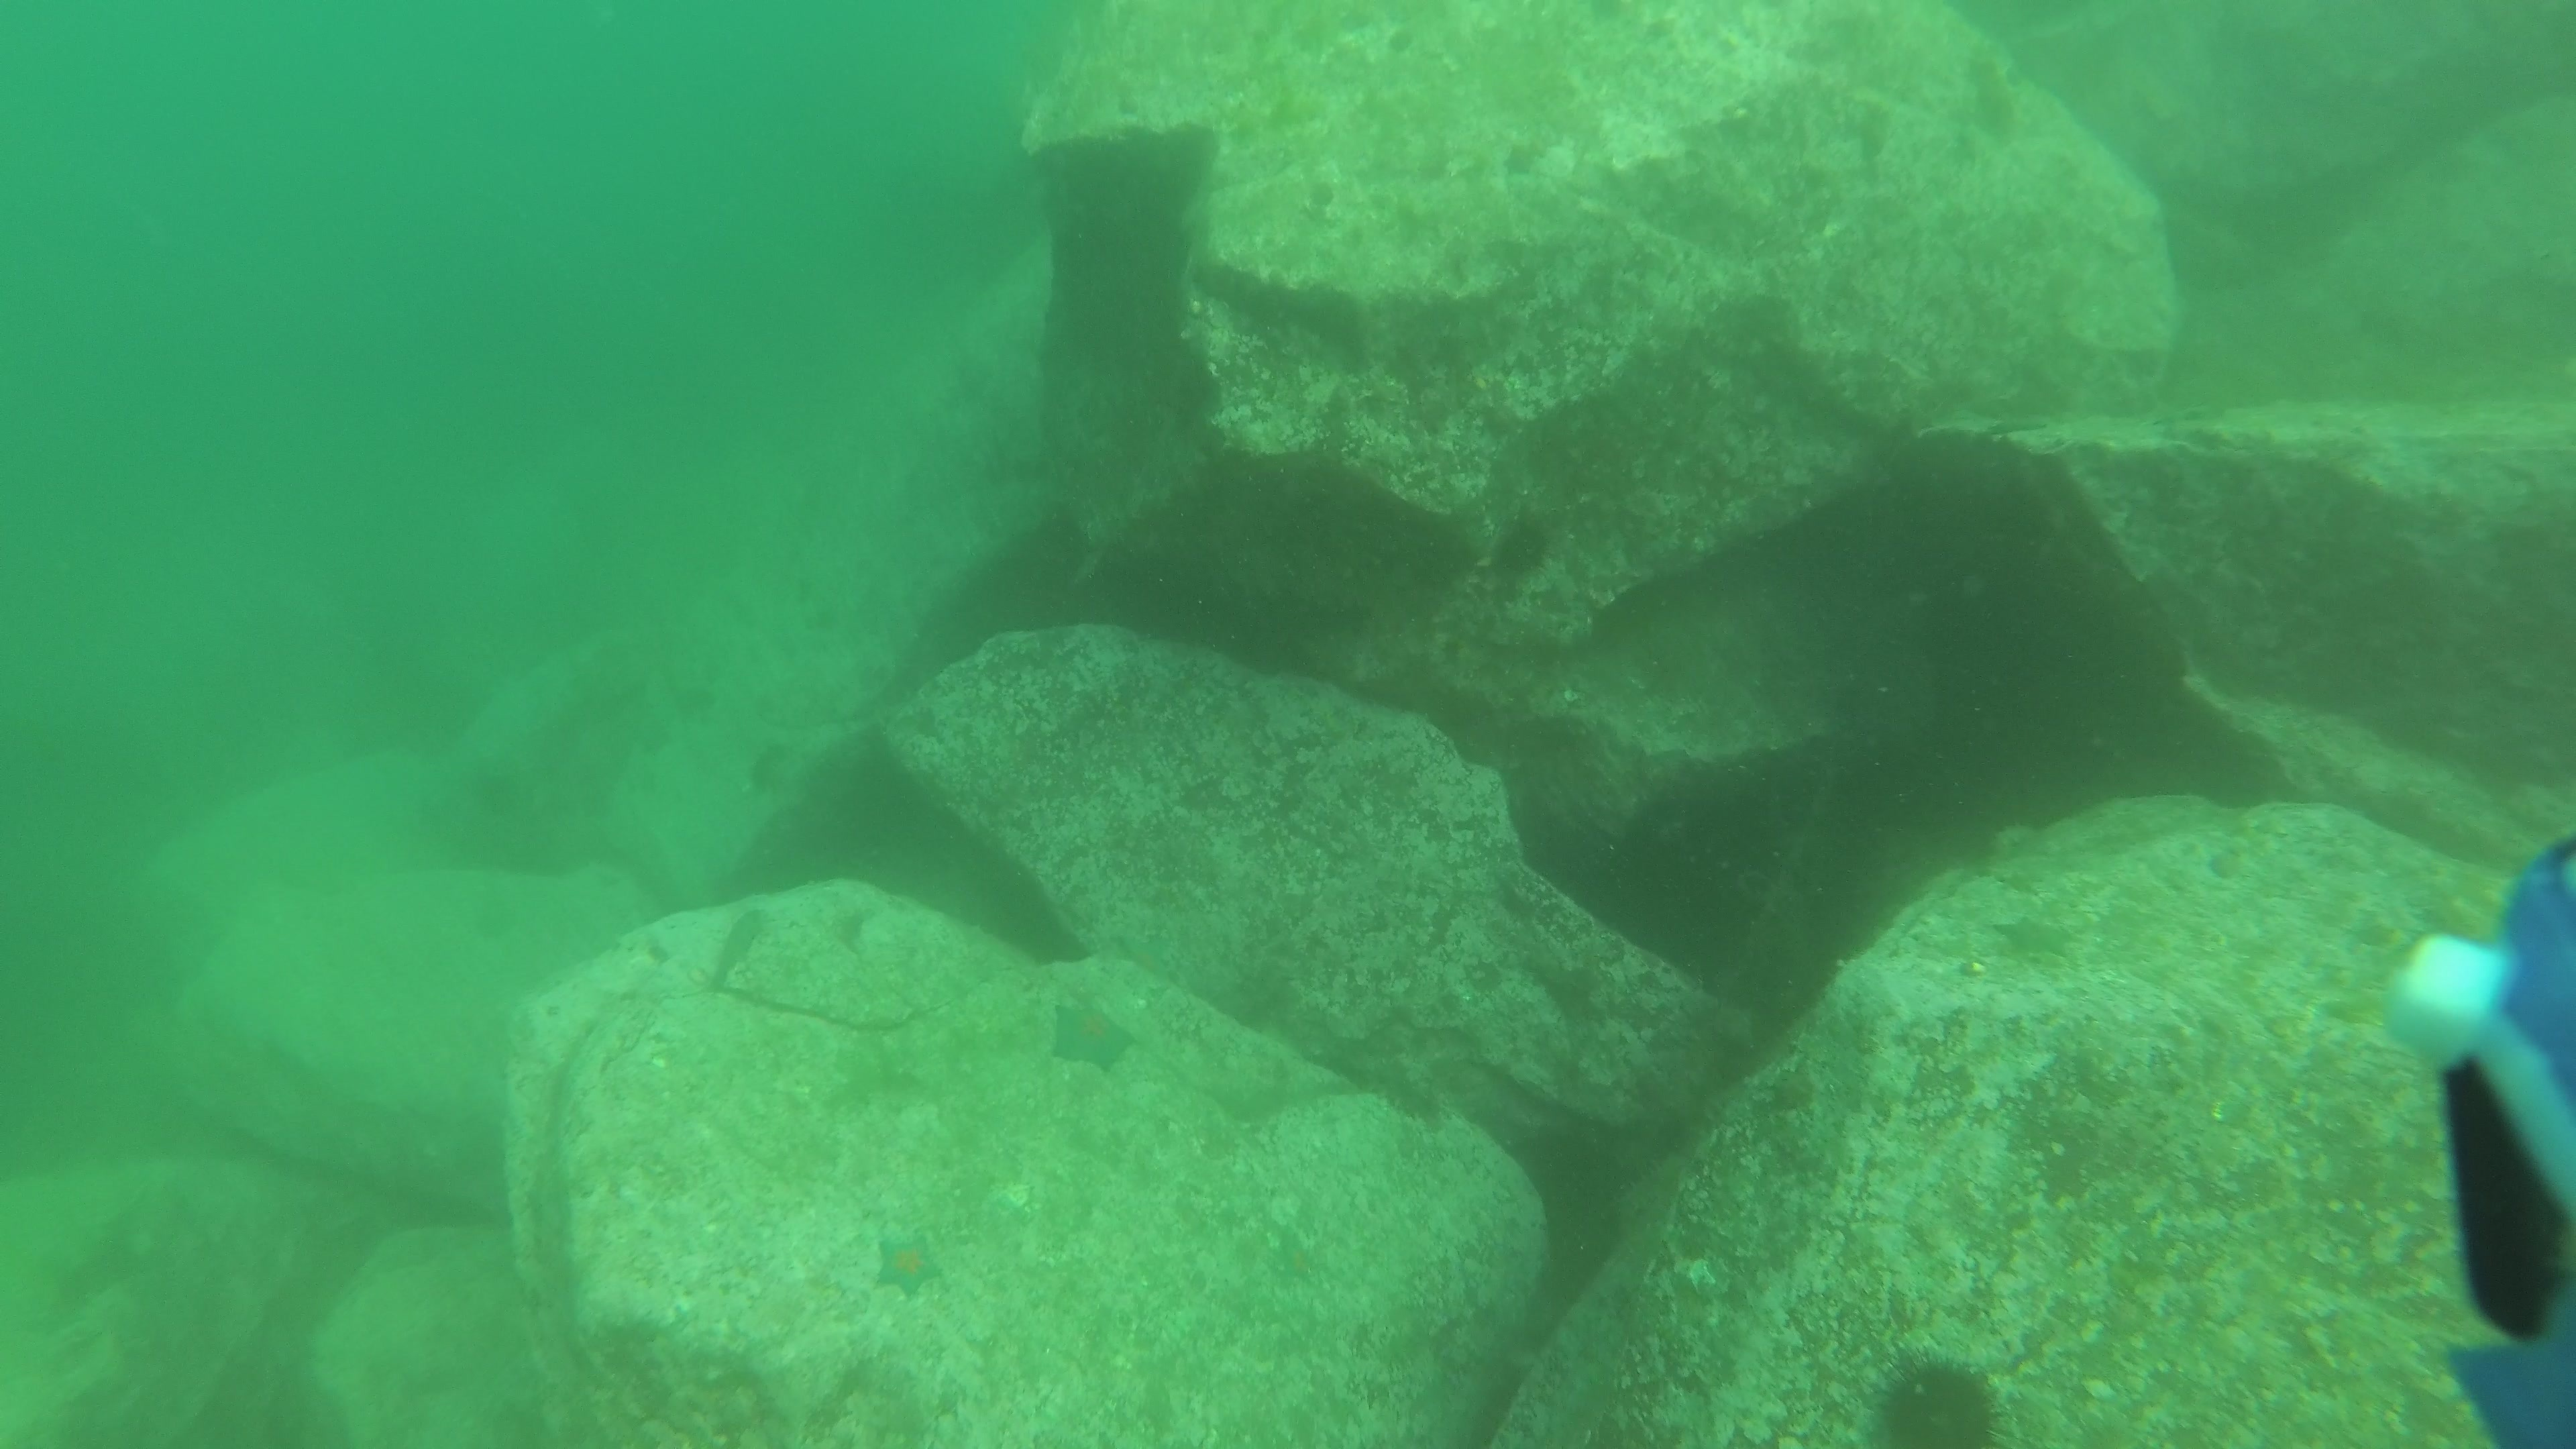echinus: (1863, 1327, 2010, 1449), (1491, 510, 1566, 586), (725, 732, 800, 807)
holothurian: (1350, 1047, 1461, 1132)
starfish: (1040, 991, 1143, 1077), (872, 1226, 948, 1304), (1987, 911, 2077, 961)
